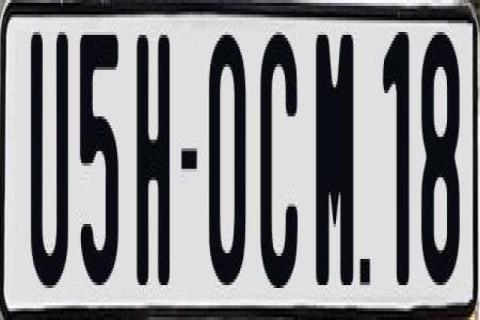0: (79, 35, 123, 299), (419, 29, 459, 288), (209, 32, 247, 282), (382, 27, 415, 297)
C: (258, 29, 298, 297)
H: (137, 29, 174, 282)
M: (316, 26, 356, 288)
U: (32, 29, 72, 303)
